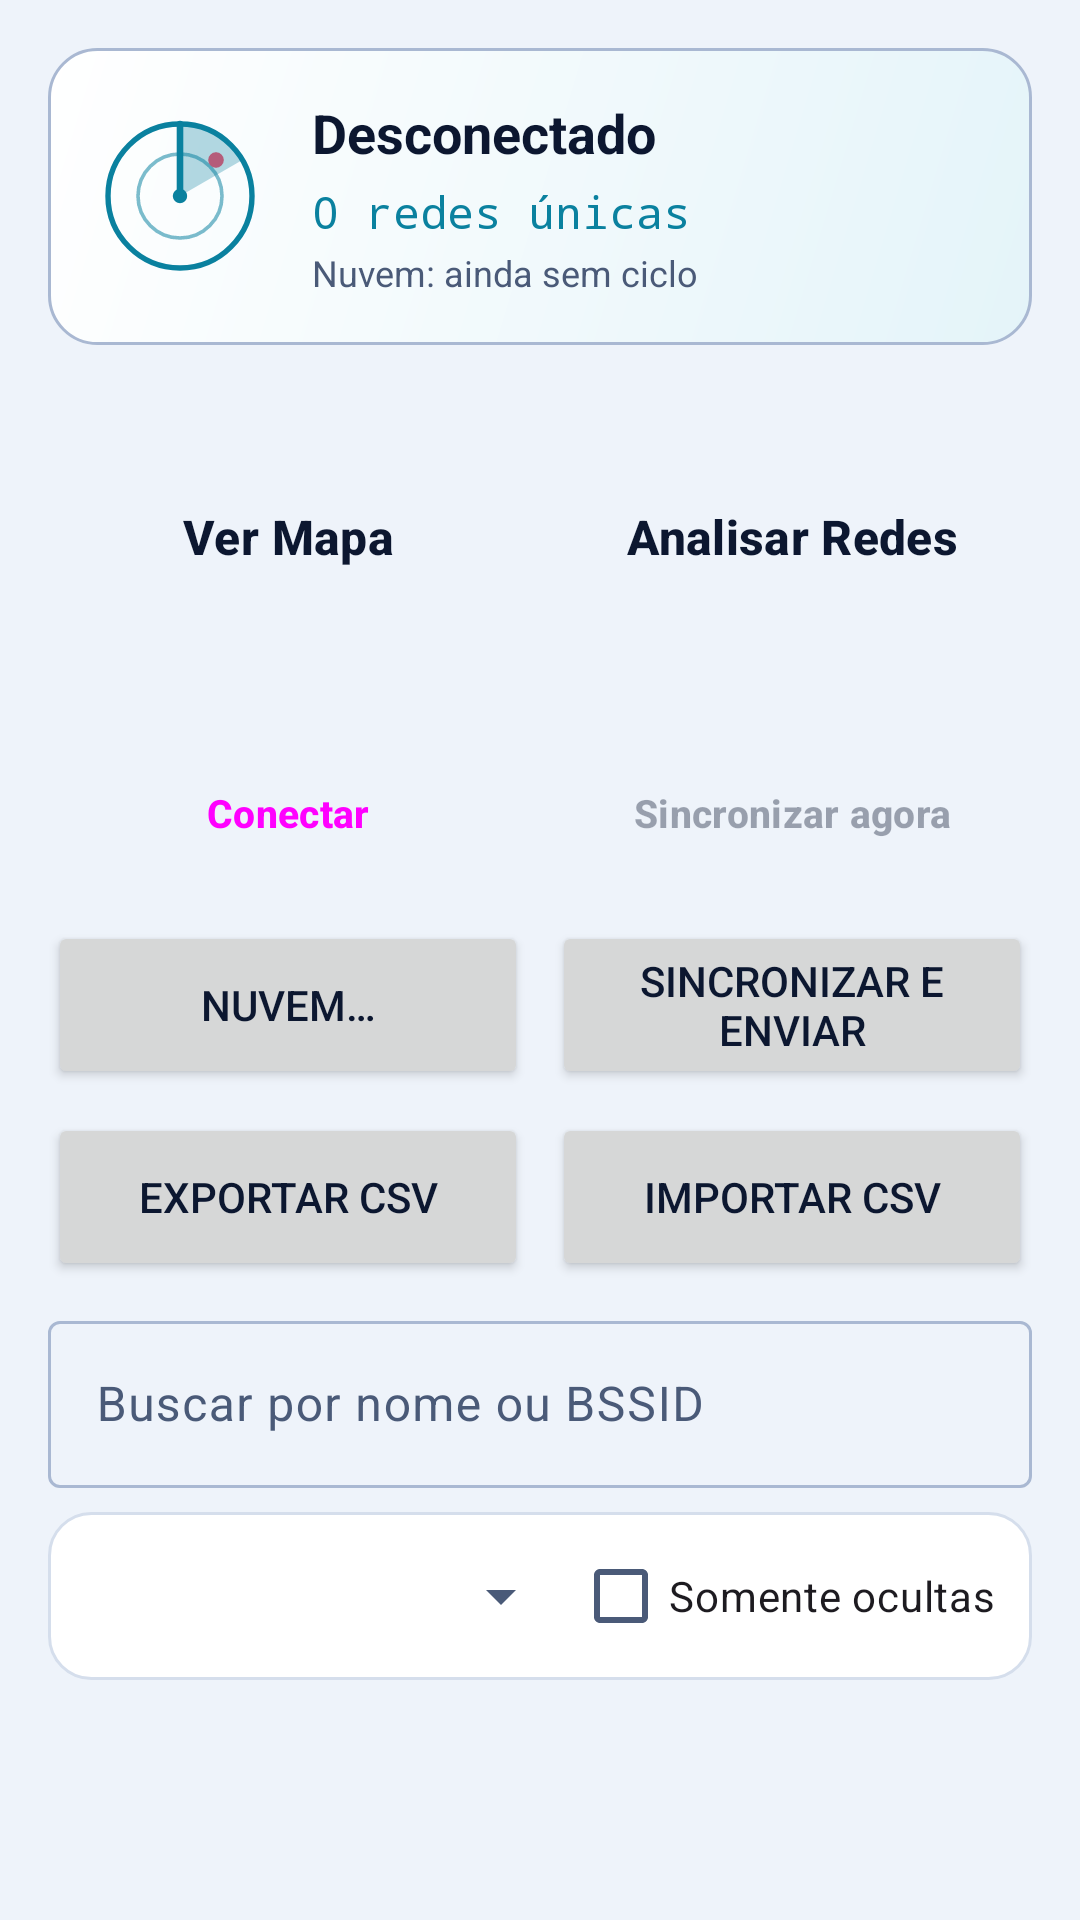

Point at icon controls on the screen. Image size 1080 x 1920, points as [x,y].
sonar rings: [180,195]
